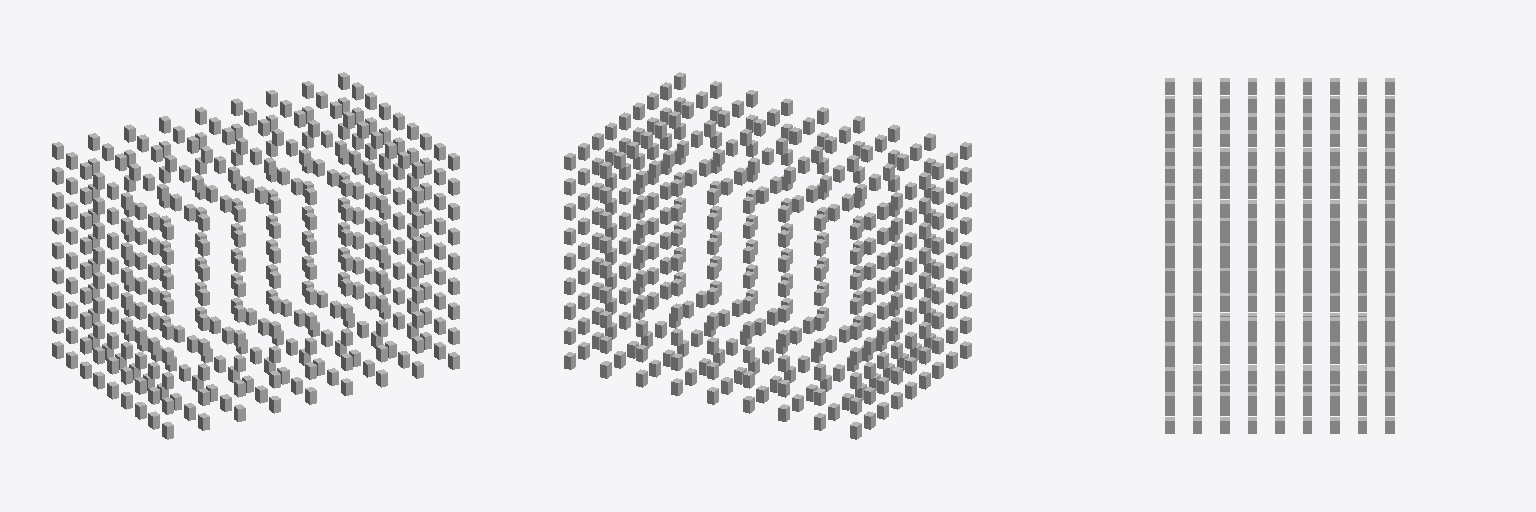
The model's file is staeg.obj.
3 views of the same model, side by side, from view 1: azimuth 30°, elevation 25°; view 2: azimuth 150°, elevation 25°; view 3: azimuth 270°, elevation 25° (orthographic).
Visible parts, largest first — view 1: 立方体; view 2: 立方体; view 3: 立方体.
Part boxes in pixels (x1,y1,x2,y2): 立方体: (52, 72, 459, 439); 立方体: (564, 72, 971, 439); 立方体: (1165, 78, 1394, 433).
Size of the model in its own units: 3.08 by 2.13 by 2.09.